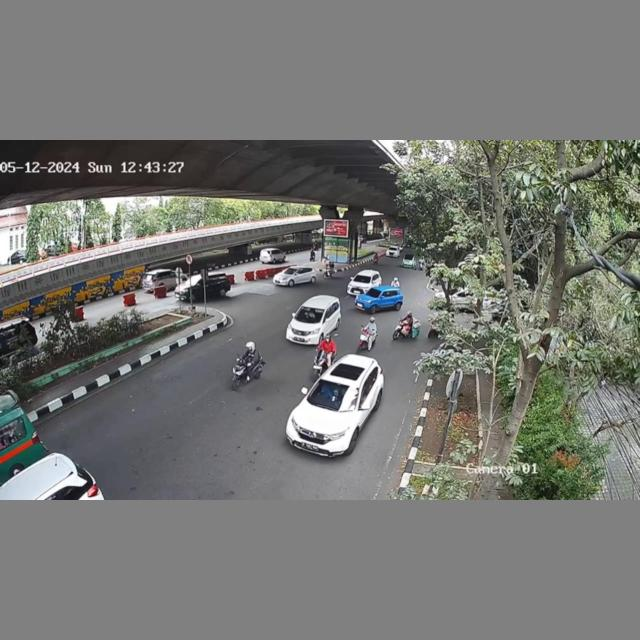windshield: (308, 376, 358, 409), (294, 306, 326, 323)
